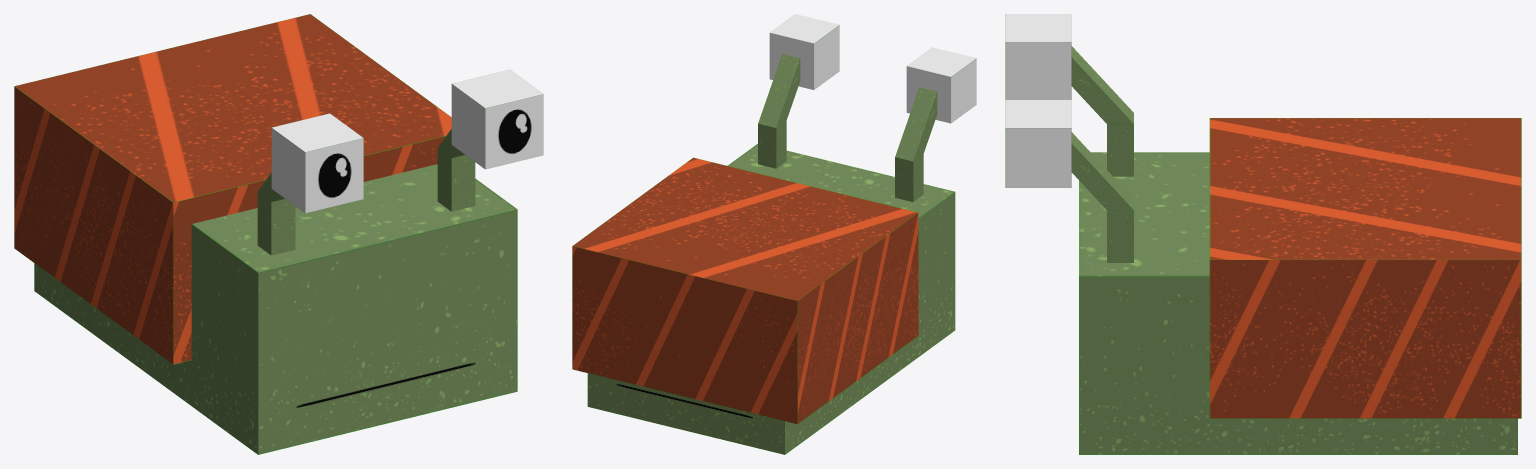
Rendered from Snail.fbx.
3 views of the same model, side by side, from view 1: azimuth 30°, elevation 25°; view 2: azimuth 150°, elevation 25°; view 3: azimuth 270°, elevation 25° (orthographic). The views are drawn at different scales.
Parts seen in each view (by area): view 1: pCube1, pCube2, pCube3, pCube6, pCube5, pCube4; view 2: pCube2, pCube1, pCube6, pCube3, pCube5, pCube4; view 3: pCube2, pCube1, pCube3, pCube6, pCube4, pCube5.
Part boxes in pixels (x1,y1,x2,y2): pCube1: [34, 164, 517, 454]; pCube2: [14, 14, 451, 364]; pCube3: [451, 69, 543, 169]; pCube6: [271, 113, 363, 213]; pCube5: [257, 172, 295, 255]; pCube4: [437, 129, 475, 211]; pCube2: [572, 157, 918, 424]; pCube1: [587, 144, 955, 454]; pCube6: [906, 47, 976, 123]; pCube3: [769, 14, 839, 89]; pCube5: [895, 87, 937, 201]; pCube4: [758, 54, 800, 168]; pCube2: [1209, 118, 1521, 418]; pCube1: [1079, 152, 1517, 454]; pCube3: [1005, 100, 1071, 187]; pCube6: [1005, 14, 1071, 99]; pCube4: [1071, 132, 1133, 262]; pCube5: [1071, 46, 1133, 176].
Size of the model in its own units: 5.26 by 5.56 by 8.1.
